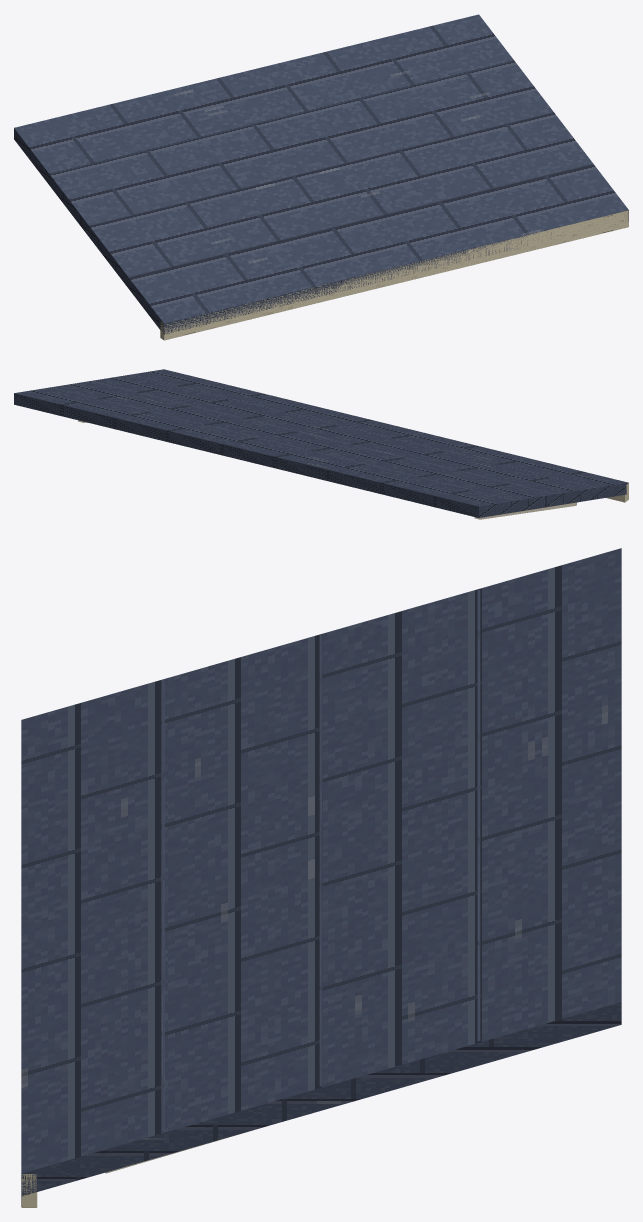
File: porch_canopy.glb
3 renders of one model, top to bottom at view 1: azimuth 30°, elevation 25°; view 2: azimuth 150°, elevation 25°; view 3: azimuth 270°, elevation 25°, orthographic. The views are drawn at different scales.
Visible parts, largest first — view 1: porch_canopy; view 2: porch_canopy; view 3: porch_canopy.
Part boxes in pixels (x1,y1,x2,y2): porch_canopy: [14, 14, 628, 340]; porch_canopy: [14, 369, 628, 519]; porch_canopy: [21, 548, 621, 1207].
Size of the model in its own units: 3.4 by 0.72 by 1.9.
Materials: 3 (3 with a texture image).
